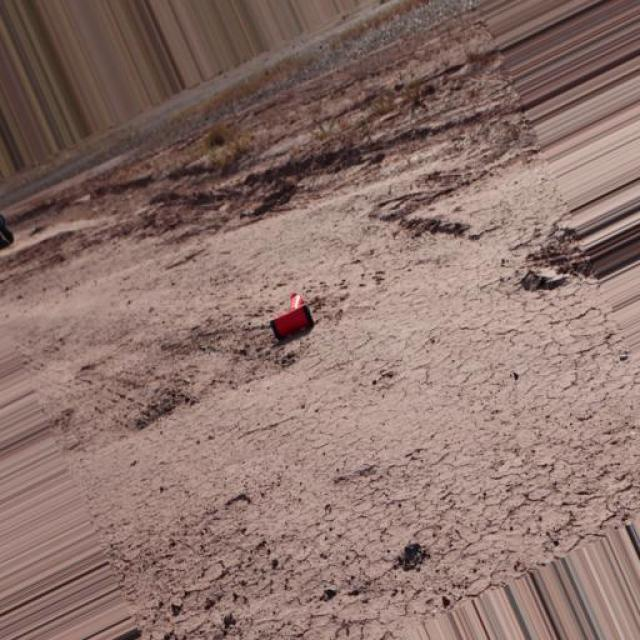mallet: (270, 291, 316, 340)
